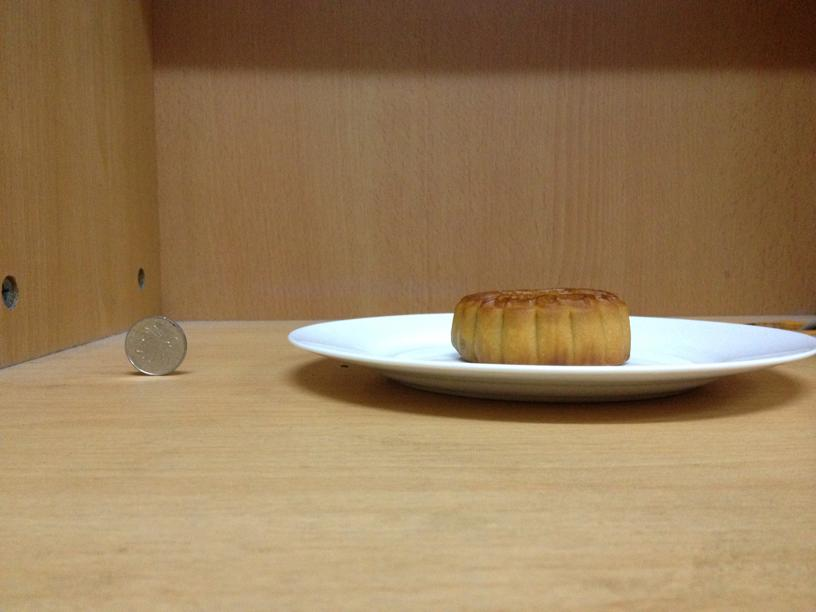coin: (124, 315, 187, 375)
mooncake: (447, 286, 631, 364)
